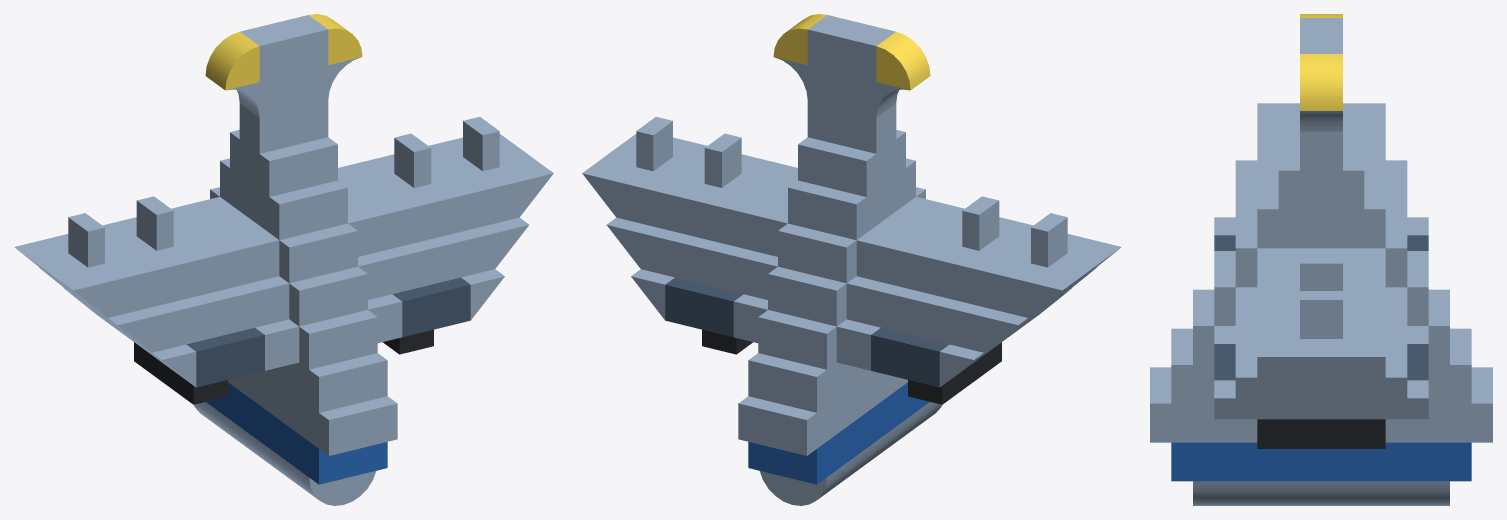
The model's file is playerskin.fbx.
3 views of the same model, side by side, from view 1: azimuth 30°, elevation 25°; view 2: azimuth 150°, elevation 25°; view 3: azimuth 270°, elevation 25° (orthographic). The views are drawn at different scales.
Visible parts, largest first — view 1: generated; view 2: generated; view 3: generated.
Part boxes in pixels (x1,y1,x2,y2): generated: (14,14,553,505); generated: (582,14,1121,505); generated: (1150,14,1492,505).
Bounding box in the file's own units: 140 × 120 × 80.
